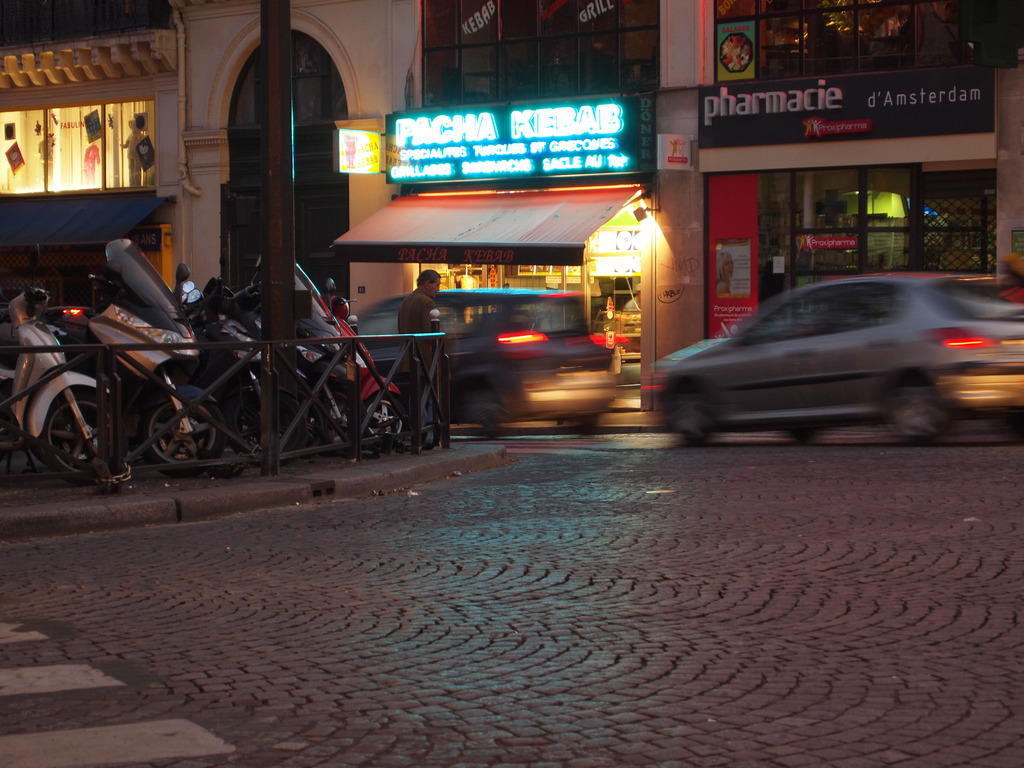Car: (650, 263, 1006, 443), (355, 282, 620, 436)
